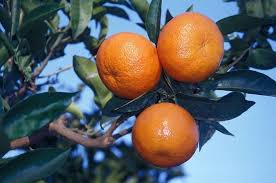orange: (153, 11, 226, 84), (90, 30, 164, 98), (128, 100, 202, 168)
